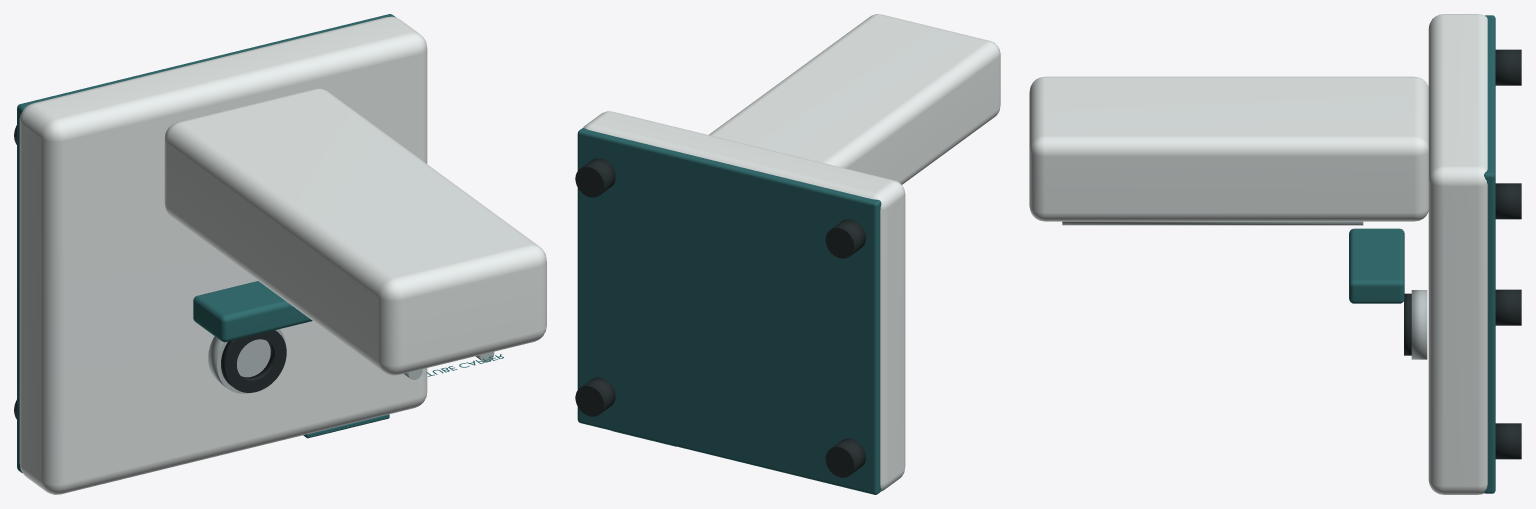
The picture shows the model from 3 angles, left to right: view 1: azimuth 30°, elevation 25°; view 2: azimuth 150°, elevation 25°; view 3: azimuth 270°, elevation 25°; orthographic projection. The views are drawn at different scales.
Parts seen in each view (by area): view 1: cast_base, rear_column, clamp_support, lower_trim, sample_centering, sample_support; view 2: lower_trim, rear_column, cast_base, foot_1_0, foot_0_0, foot_1_1, foot_0_1; view 3: rear_column, cast_base, lower_trim, clamp_support, guide_1, sample_support, foot_0_0, foot_0_1, foot_1_0, foot_1_1.
Part boxes in pixels (x1=…): cast_base: x1=19, y1=16, x2=427, y2=494; rear_column: x1=164, y1=88, x2=546, y2=375; clamp_support: x1=193, y1=281, x2=312, y2=342; lower_trim: x1=17, y1=14, x2=395, y2=473; sample_centering: x1=221, y1=330, x2=286, y2=392; sample_support: x1=208, y1=329, x2=285, y2=393; lower_trim: x1=577, y1=128, x2=881, y2=494; rear_column: x1=709, y1=14, x2=1000, y2=184; cast_base: x1=583, y1=111, x2=905, y2=491; foot_1_0: x1=575, y1=377, x2=615, y2=416; foot_0_0: x1=825, y1=438, x2=865, y2=477; foot_1_1: x1=575, y1=158, x2=615, y2=197; foot_0_1: x1=825, y1=219, x2=865, y2=258; rear_column: x1=1029, y1=76, x2=1428, y2=221; cast_base: x1=1428, y1=14, x2=1487, y2=494; lower_trim: x1=1484, y1=15, x2=1495, y2=493; clamp_support: x1=1349, y1=228, x2=1404, y2=303; guide_1: x1=1062, y1=221, x2=1363, y2=225; sample_support: x1=1411, y1=290, x2=1427, y2=359; foot_0_0: x1=1495, y1=289, x2=1521, y2=325; foot_0_1: x1=1495, y1=49, x2=1521, y2=85; foot_1_0: x1=1495, y1=423, x2=1521, y2=459; foot_1_1: x1=1495, y1=183, x2=1521, y2=219.
Bounding box in the file's own units: 0.3 × 0.2845 × 0.381.
